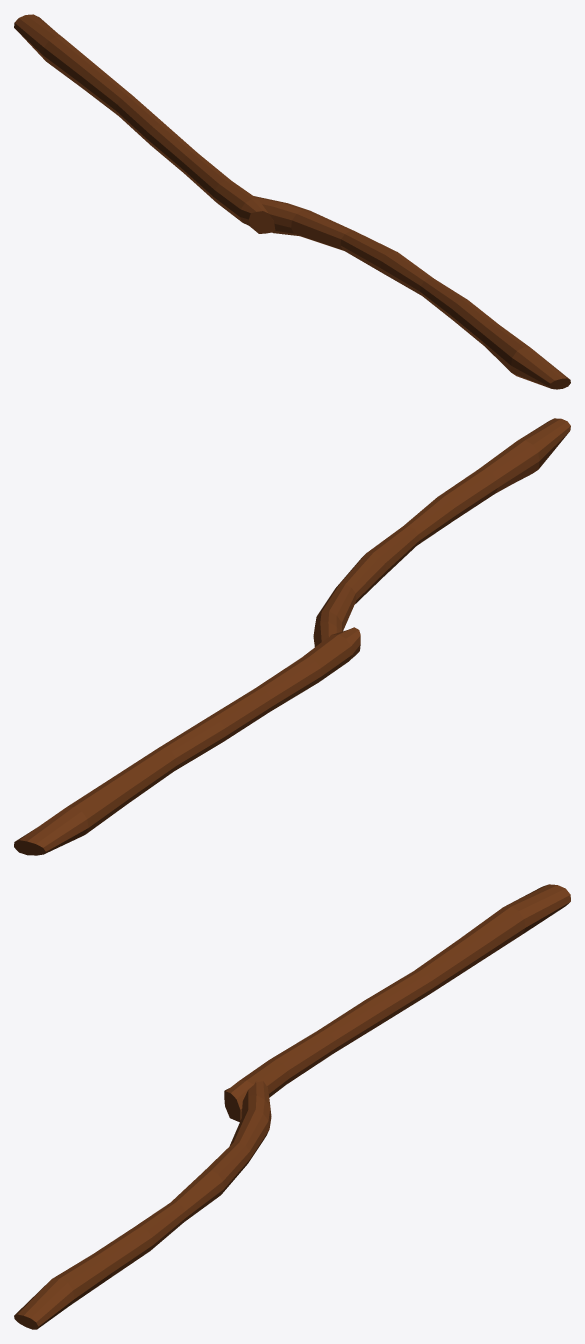
File: Stock3.fbx
3 renders of one model, top to bottom at view 1: azimuth 30°, elevation 25°; view 2: azimuth 150°, elevation 25°; view 3: azimuth 330°, elevation 25°, orthographic. The views are drawn at different scales.
Visible parts, largest first — view 1: Cylinder; view 2: Cylinder; view 3: Cylinder.
Boxes of the visible parts, x1,y1,x2,y2 form: Cylinder: (14,14,570,389); Cylinder: (14,418,570,855); Cylinder: (14,884,570,1329).
Bounding box in the file's own units: 10.97 × 3.8 × 117.
